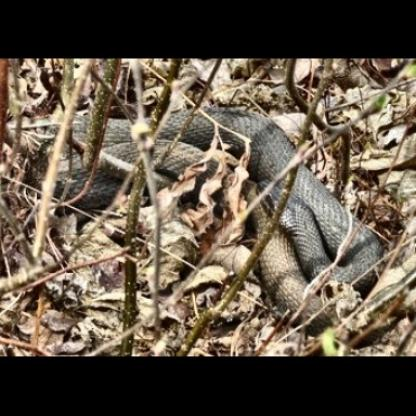Snake: (8, 85, 410, 348)
